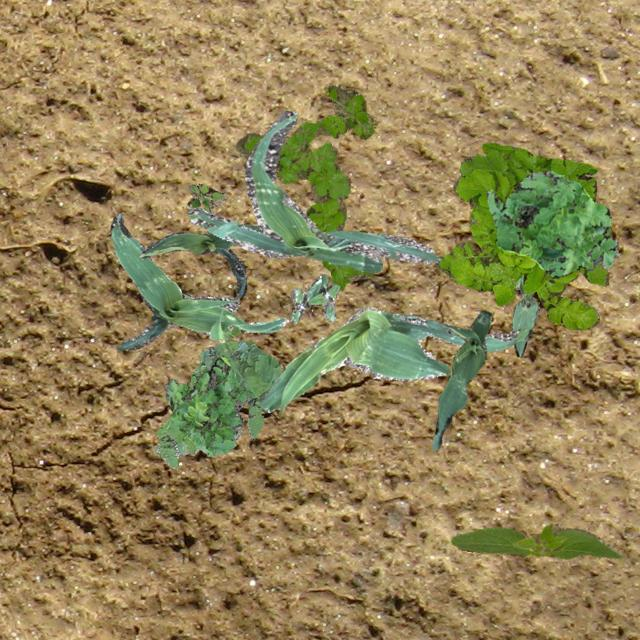crop: (186, 110, 440, 272), (258, 306, 530, 412), (110, 213, 288, 349), (424, 310, 490, 450), (138, 224, 262, 296), (449, 522, 622, 558), (512, 274, 538, 356)
weed: (434, 142, 610, 330), (235, 84, 374, 290), (152, 340, 280, 468), (486, 170, 618, 276), (163, 356, 254, 454), (290, 274, 338, 322), (187, 182, 224, 212)
